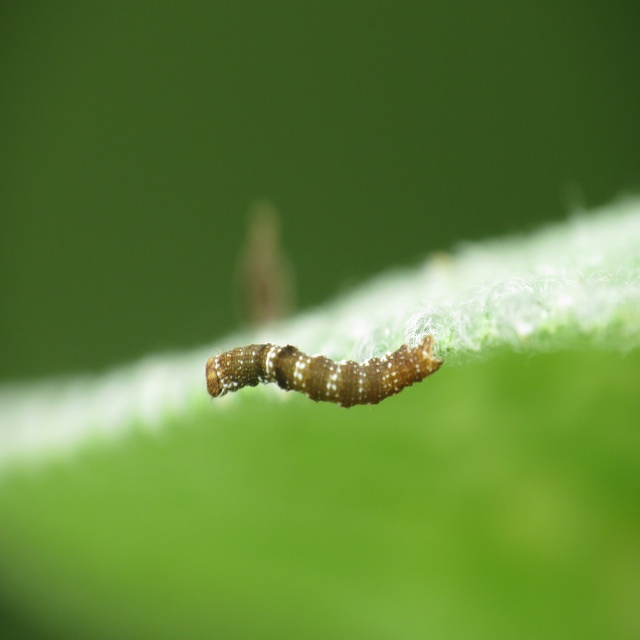Caterpillar: (201, 323, 436, 405)
